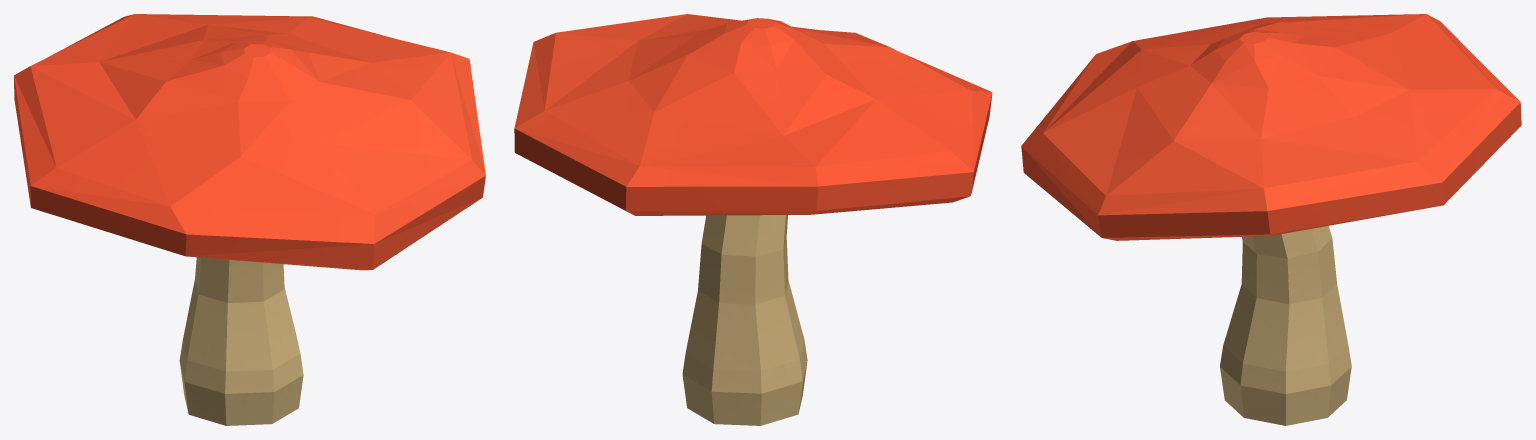
The model's file is mushroom.obj.
3 renders of one model, left to right at view 1: azimuth 30°, elevation 25°; view 2: azimuth 150°, elevation 25°; view 3: azimuth 270°, elevation 25°, orthographic.
Parts seen in each view (by area): view 1: mushroom_Material; view 2: mushroom_Material; view 3: mushroom_Material.
Boxes of the visible parts, x1,y1,x2,y2 form: mushroom_Material: (14,14,485,425); mushroom_Material: (514,14,992,425); mushroom_Material: (1021,14,1521,425).
Size of the model in its own units: 0.2011 by 0.1597 by 0.1995.
